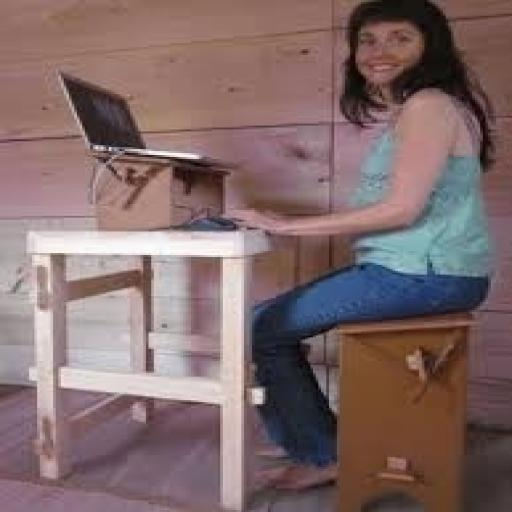sitting: (223, 0, 499, 490)
